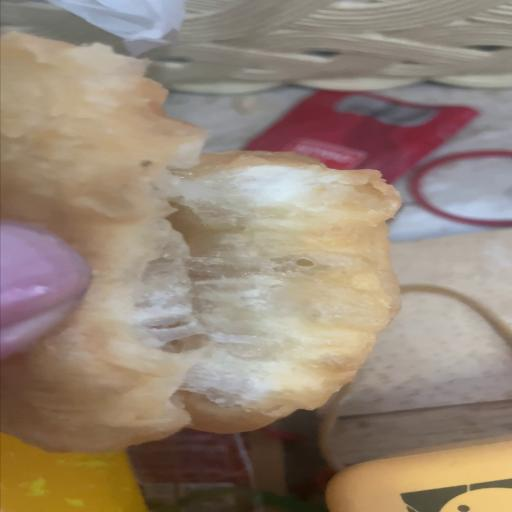street_golden_defect: (0, 111, 397, 452)
